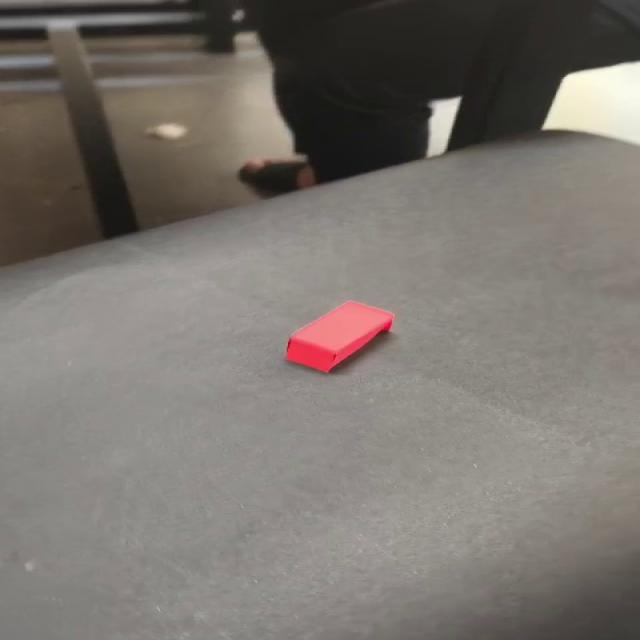red block: (282, 300, 394, 374)
